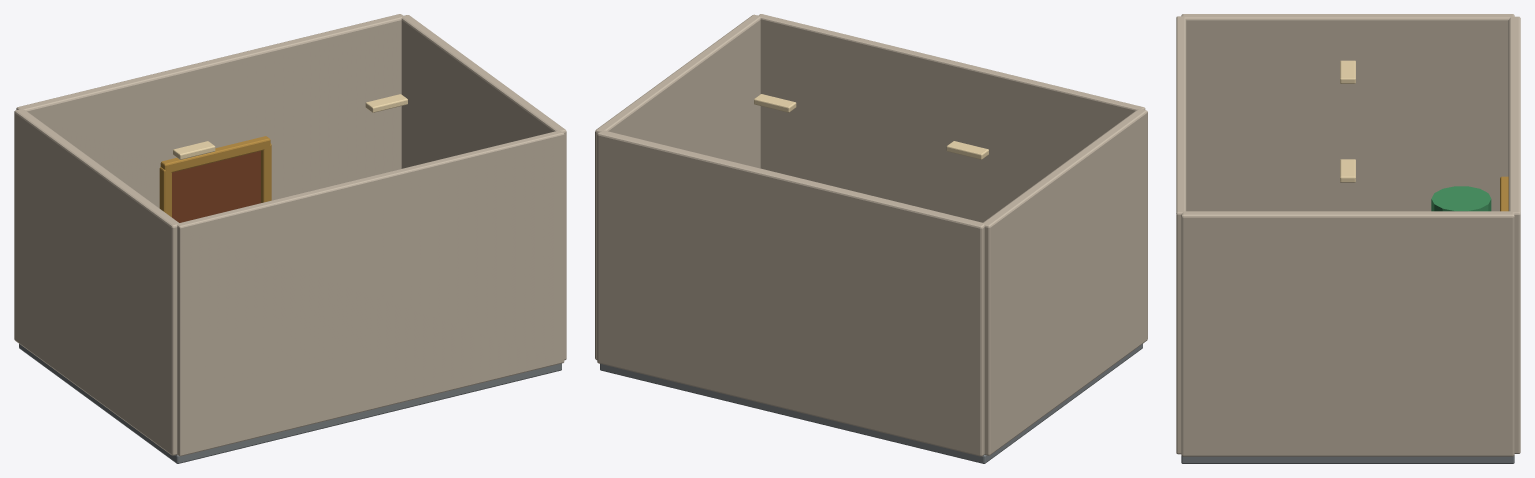
File: apartment_main_entrance_a.glb
3 views of the same model, side by side, from view 1: azimuth 30°, elevation 25°; view 2: azimuth 150°, elevation 25°; view 3: azimuth 270°, elevation 25° (orthographic). The views are drawn at different scales.
Visible parts, largest first — view 1: CUTAWAY_FRONT, SET_Wall_Back, SET_Wall_Left, SET_Wall_Right, SET_Entry_Door, SET_Floor, SET_Entry_Header, SET_Entry_Jamb_R, SET_Entry_Jamb_L; view 2: SET_Wall_Back, CUTAWAY_FRONT, SET_Wall_Left, SET_Wall_Right, SET_Floor; view 3: SET_Wall_Right, SET_Wall_Left, SET_Wall_Back, CUTAWAY_FRONT, SET_Floor, PROP_Plant, SET_LightFixture_L, SET_LightFixture_R.
Boxes of the visible parts, x1=… form: CUTAWAY_FRONT: x1=177, y1=131, x2=564, y2=456; SET_Wall_Back: x1=16, y1=14, x2=403, y2=208; SET_Wall_Left: x1=14, y1=109, x2=178, y2=455; SET_Wall_Right: x1=401, y1=15, x2=566, y2=360; SET_Entry_Door: x1=172, y1=151, x2=260, y2=222; SET_Floor: x1=19, y1=344, x2=561, y2=463; SET_Entry_Header: x1=160, y1=136, x2=270, y2=172; SET_Entry_Jamb_R: x1=261, y1=143, x2=271, y2=202; SET_Entry_Jamb_L: x1=159, y1=167, x2=171, y2=217; SET_Wall_Back: x1=597, y1=130, x2=984, y2=456; CUTAWAY_FRONT: x1=758, y1=14, x2=1145, y2=222; SET_Wall_Left: x1=983, y1=109, x2=1147, y2=455; SET_Wall_Right: x1=595, y1=14, x2=760, y2=359; SET_Floor: x1=600, y1=344, x2=1142, y2=463; SET_Wall_Right: x1=1181, y1=211, x2=1514, y2=456; SET_Wall_Left: x1=1181, y1=14, x2=1514, y2=211; SET_Wall_Back: x1=1508, y1=16, x2=1520, y2=453; CUTAWAY_FRONT: x1=1176, y1=16, x2=1186, y2=454; SET_Floor: x1=1181, y1=455, x2=1514, y2=463; PROP_Plant: x1=1431, y1=186, x2=1491, y2=211; SET_LightFixture_L: x1=1340, y1=60, x2=1355, y2=83; SET_LightFixture_R: x1=1340, y1=159, x2=1355, y2=182.
Size of what is drawn, in the model's own units: 7.18 by 4.16 by 5.17.
